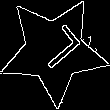L_SW: (25, 23, 82, 79)
